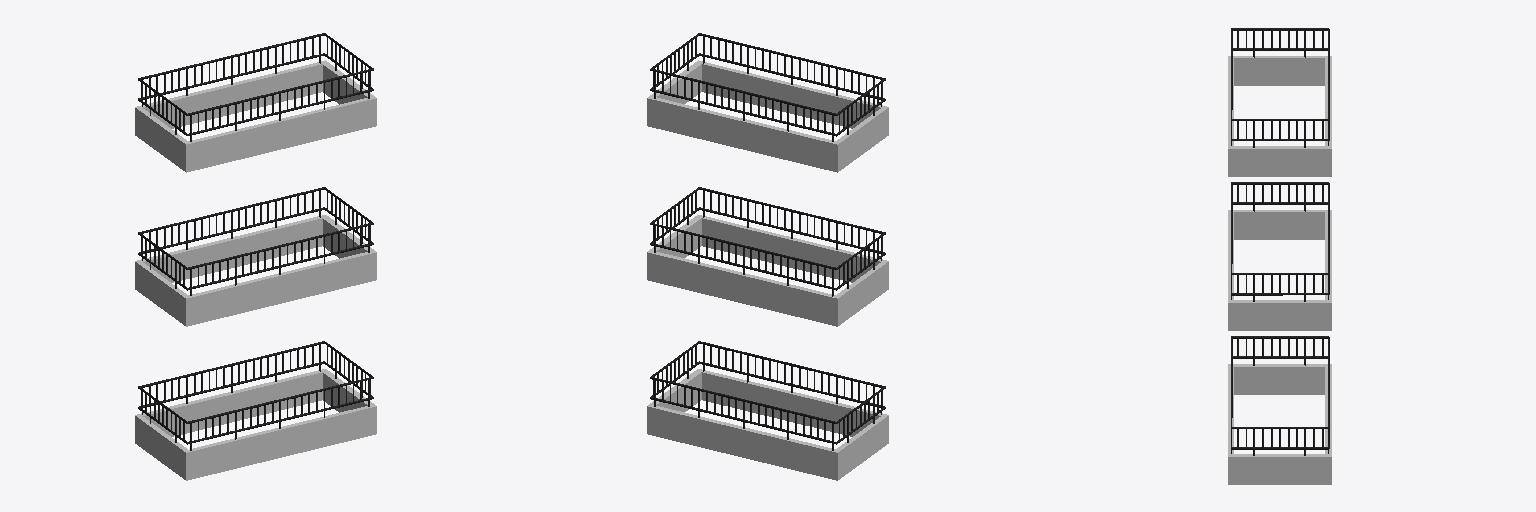
The model's file is balcones_5.obj.
3 views of the same model, side by side, from view 1: azimuth 30°, elevation 25°; view 2: azimuth 150°, elevation 25°; view 3: azimuth 270°, elevation 25° (orthographic).
Parts seen in each view (by area): view 1: Borde_barrotes.001_Cube.008; view 2: Borde_barrotes.001_Cube.008; view 3: Borde_barrotes.001_Cube.008.
Boxes of the visible parts, box(x1,y1,x2,y2) form: Borde_barrotes.001_Cube.008: box(135, 33, 376, 480); Borde_barrotes.001_Cube.008: box(647, 33, 888, 480); Borde_barrotes.001_Cube.008: box(1228, 28, 1331, 484).
Bounding box in the file's own units: 7.14 × 13.05 × 3.33.